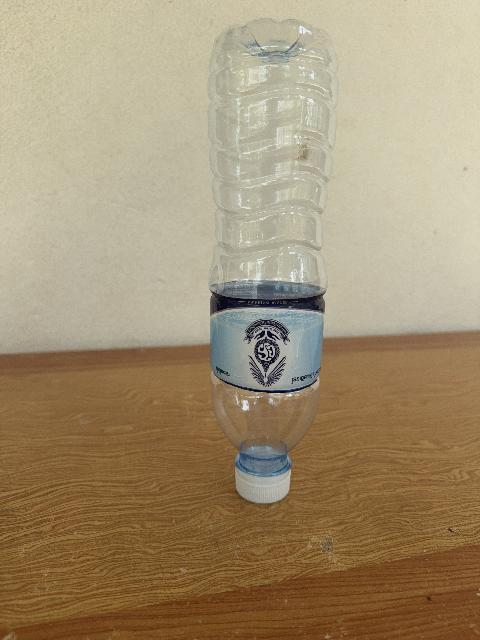bottle: (208, 19, 336, 502)
